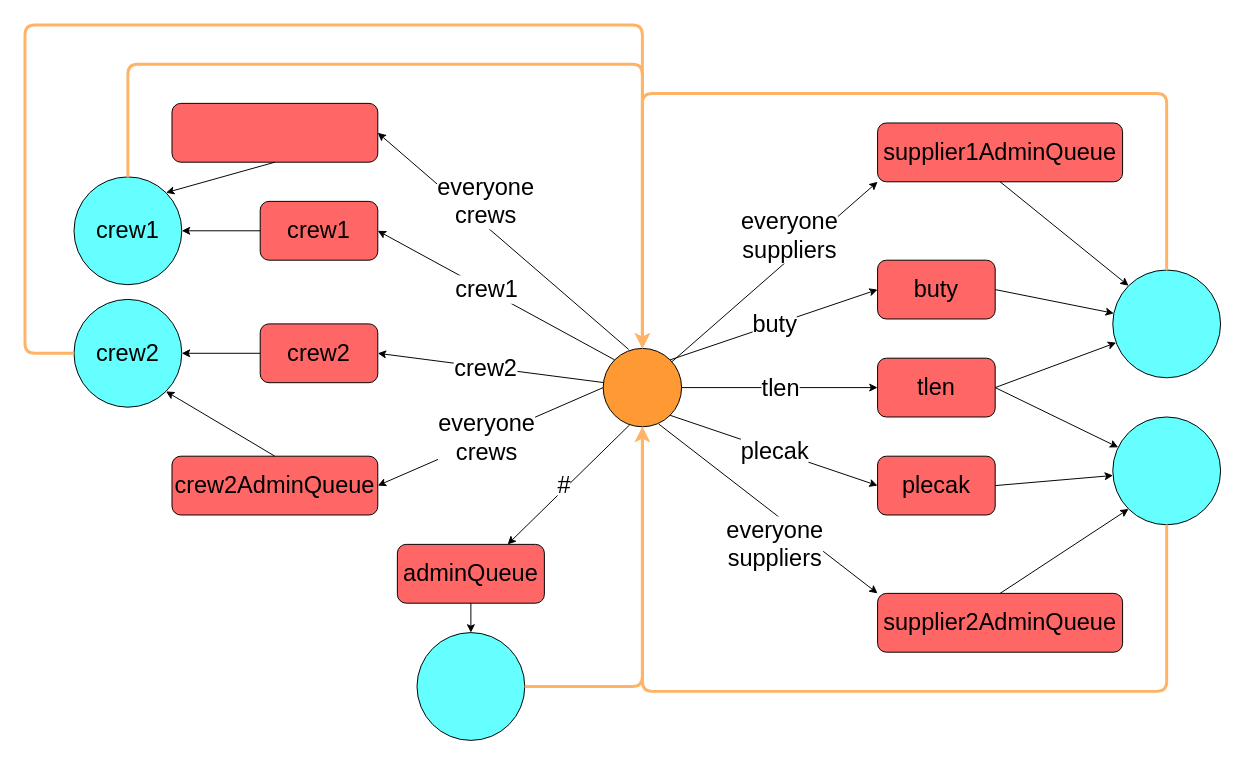
Some shapes in this 1238 by 758 pixel diagram are drawn without their labels. Each missing label, with the box of its shape:
admin: (416, 632, 525, 740)
crew1AdminQueue: (171, 102, 378, 162)
supplier1: (1112, 269, 1221, 378)
supplier2: (1112, 416, 1221, 525)
TOPIC: (602, 347, 682, 427)
